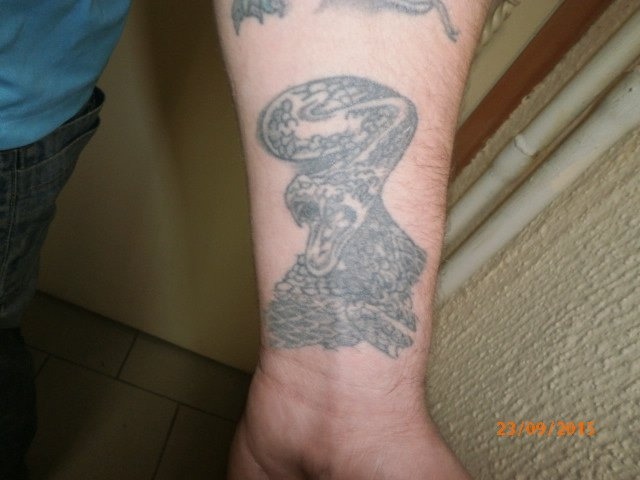tatu7_zmeya: (238, 81, 482, 324)
